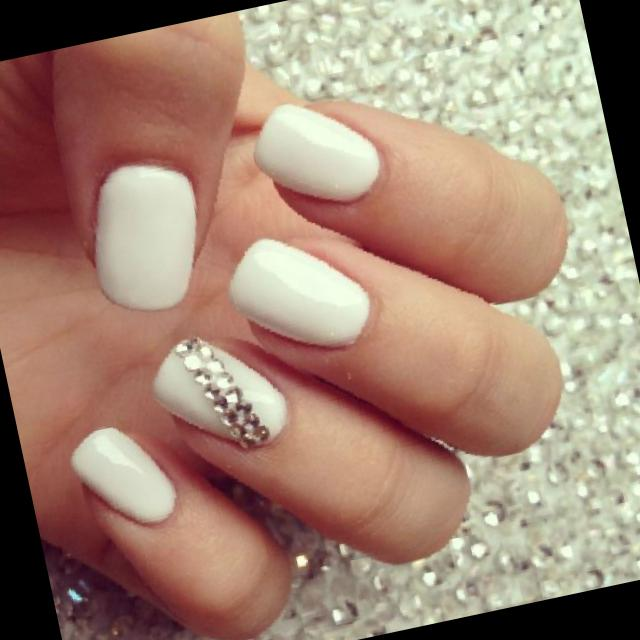Nail: (229, 238, 369, 347), (93, 164, 196, 310), (152, 338, 286, 448), (253, 104, 379, 201), (70, 427, 175, 523)
